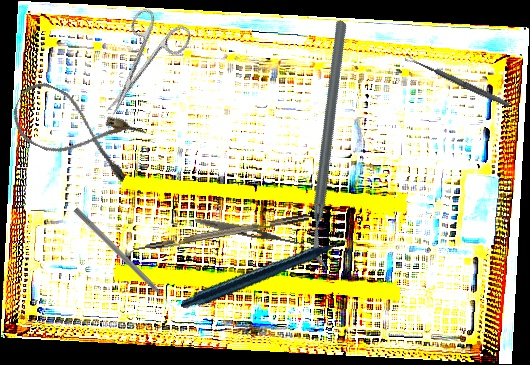Cannula: (4, 75, 147, 186)
Chopper: (224, 18, 439, 272), (121, 213, 311, 263)
Dressing Forceps: (194, 215, 306, 249)
Handpiece: (180, 202, 360, 348)
Iris Scissors: (82, 0, 196, 130)
Pusher: (71, 206, 177, 312)
Surgical Spoon: (404, 53, 511, 109)
